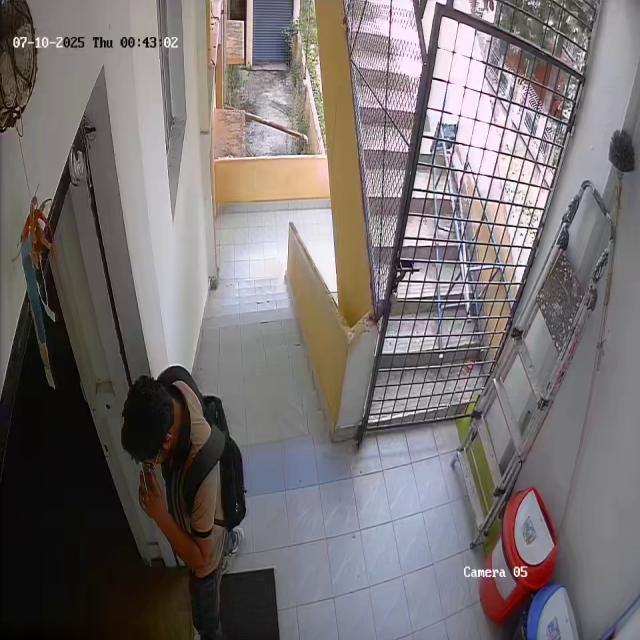person: (112, 367, 251, 640)
